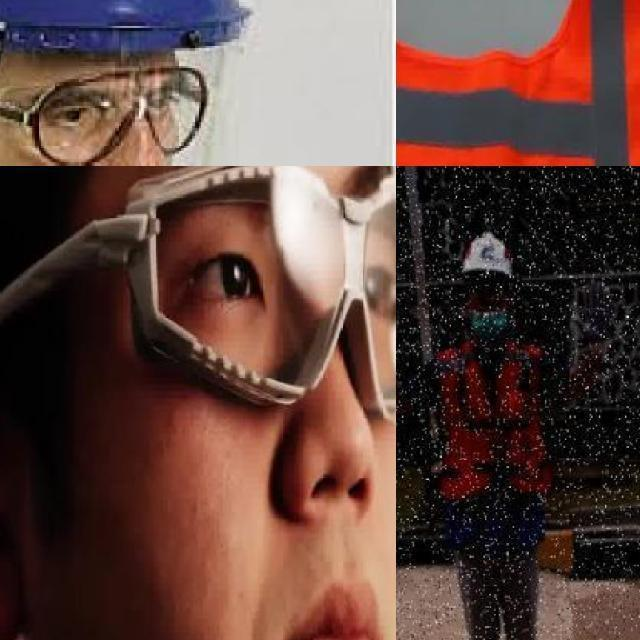apron: (570, 280, 612, 360)
